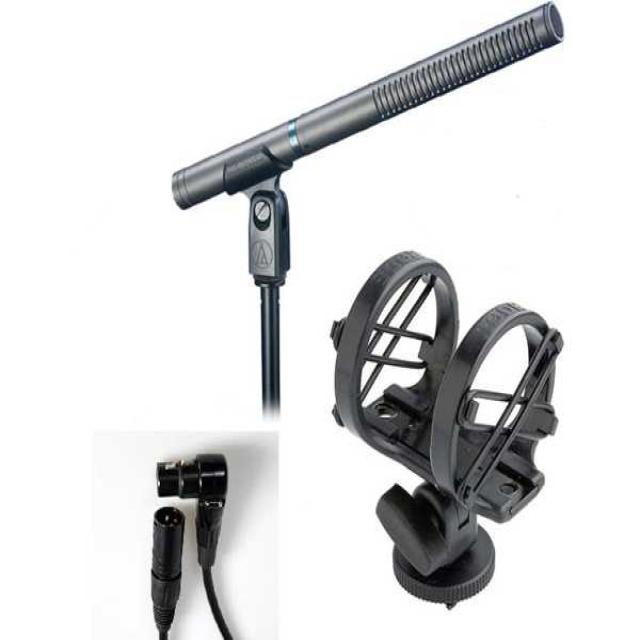microphone: (179, 3, 561, 207)
